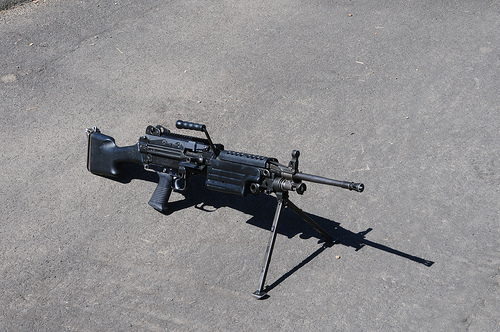rifle: (78, 114, 411, 302)
